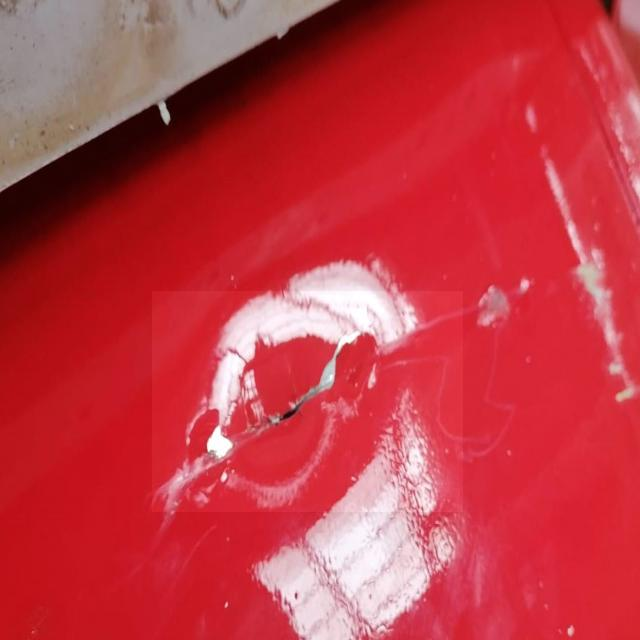crack: (153, 292, 464, 513)
